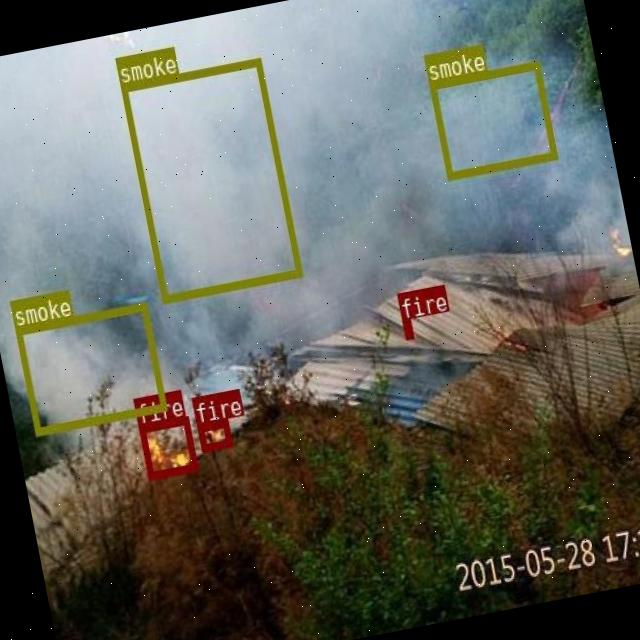fire: (139, 416, 197, 478), (196, 418, 232, 450), (403, 319, 414, 339)
smoke: (120, 58, 301, 302), (15, 302, 166, 434), (428, 61, 556, 179)
